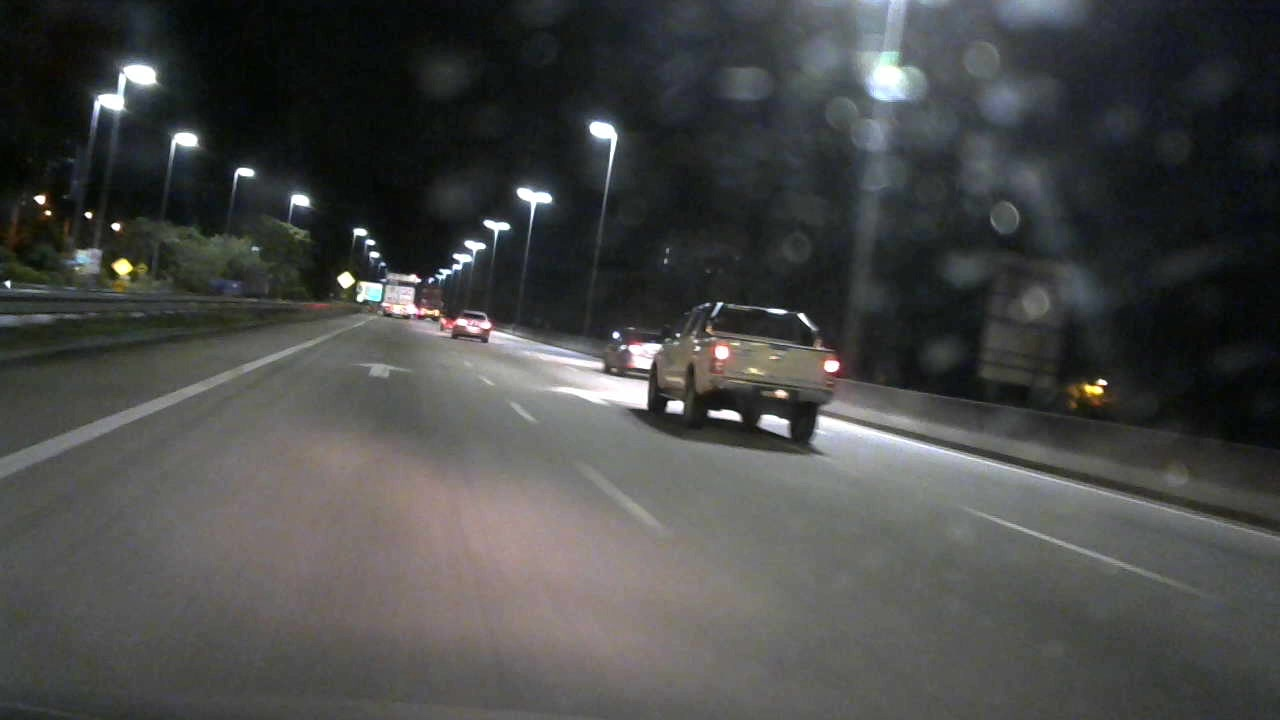Car: (643, 297, 845, 443), (592, 321, 664, 376), (440, 304, 509, 343)
